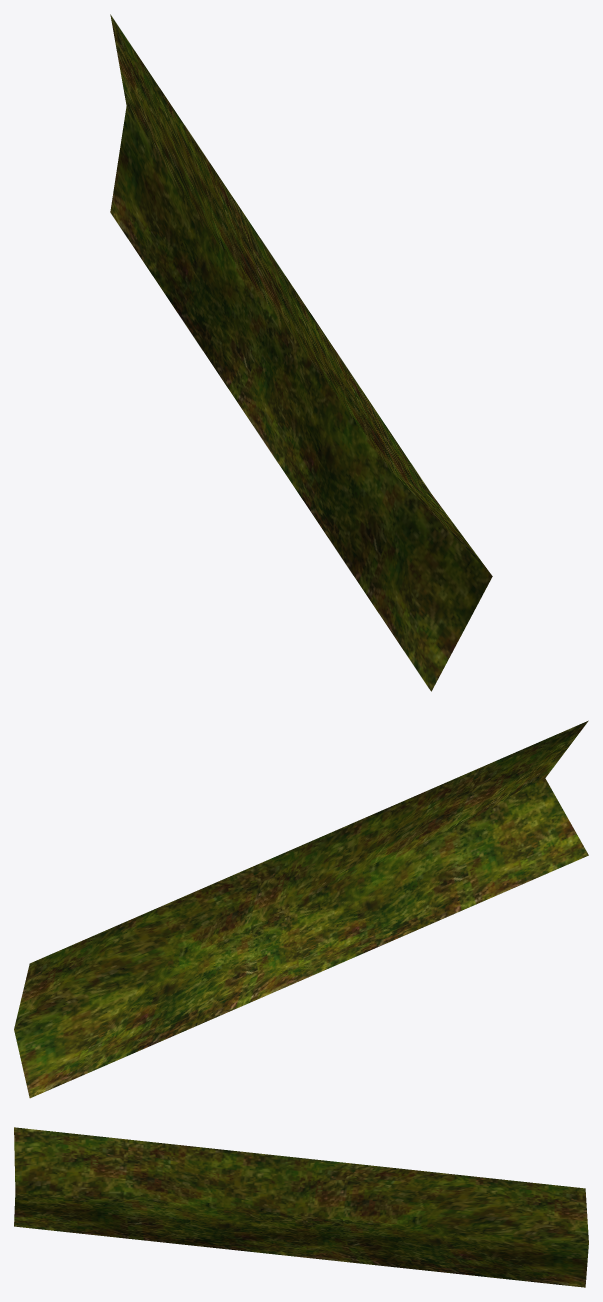
File: TROLLHOLE02_RM_PSURF112.fbx
3 renders of one model, top to bottom at view 1: azimuth 30°, elevation 25°; view 2: azimuth 150°, elevation 25°; view 3: azimuth 270°, elevation 25°, orthographic. The views are drawn at different scales.
Visible parts, largest first — view 1: TROLLHOLE02_RM_PSURF112; view 2: TROLLHOLE02_RM_PSURF112; view 3: TROLLHOLE02_RM_PSURF112.
Part boxes in pixels (x1=…): TROLLHOLE02_RM_PSURF112: x1=110, y1=14, x2=492, y2=691; TROLLHOLE02_RM_PSURF112: x1=14, y1=720, x2=588, y2=1098; TROLLHOLE02_RM_PSURF112: x1=14, y1=1127, x2=588, y2=1287.
Size of the model in its own units: 14248 by 10000 by 52519.
Materials: 1 (1 with a texture image).
